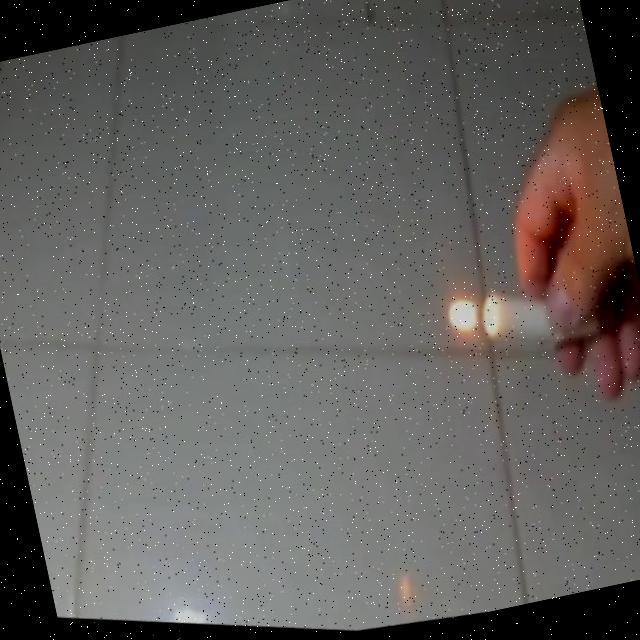fire: (435, 289, 488, 345)
